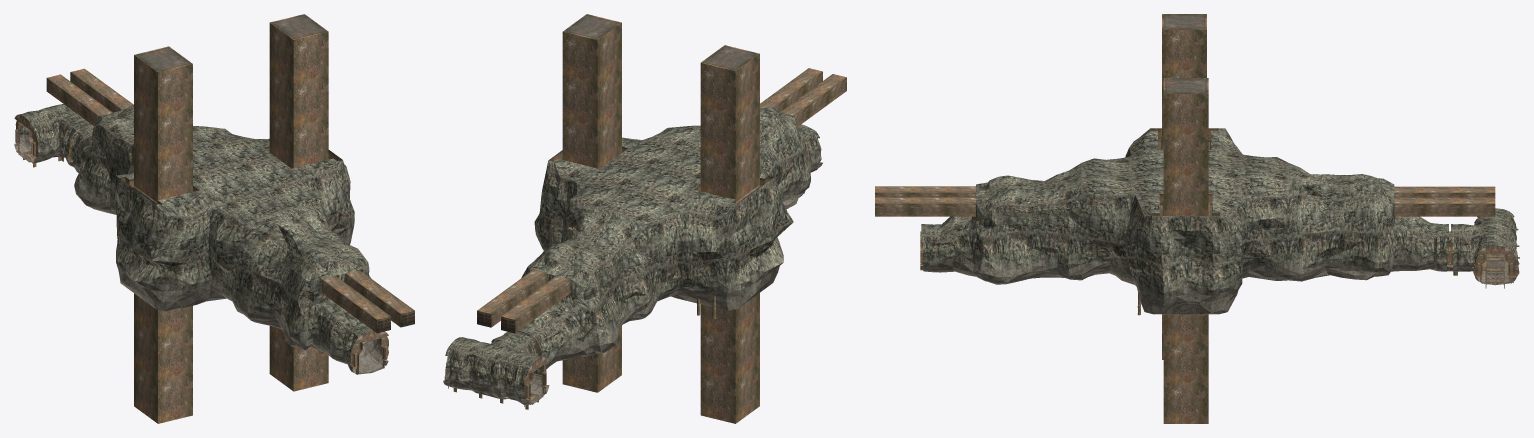
The model's file is poi_all_bunker_allum_mine_r58_largeroom58_mesh_r58.fbx.
3 views of the same model, side by side, from view 1: azimuth 30°, elevation 25°; view 2: azimuth 150°, elevation 25°; view 3: azimuth 270°, elevation 25° (orthographic). The views are drawn at different scales.
Parts seen in each view (by area): view 1: mesh_node; view 2: mesh_node; view 3: mesh_node.
Boxes of the visible parts, box(x1,y1,x2,y2) form: mesh_node: box(14, 14, 414, 423); mesh_node: box(443, 14, 846, 423); mesh_node: box(875, 14, 1519, 423).
Bounding box in the file's own units: 37.15 × 56.6 × 99.82.
